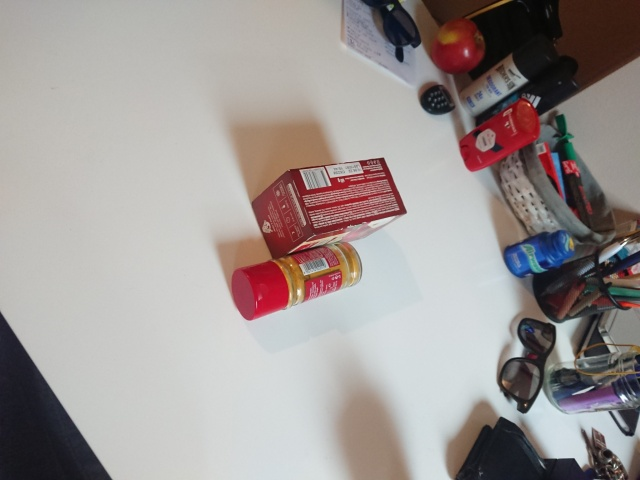Franck Apple Cinnamon Tea 60g: (249, 154, 410, 262)
Kotanyi Curry Spices Mix 70g: (230, 239, 364, 323)
